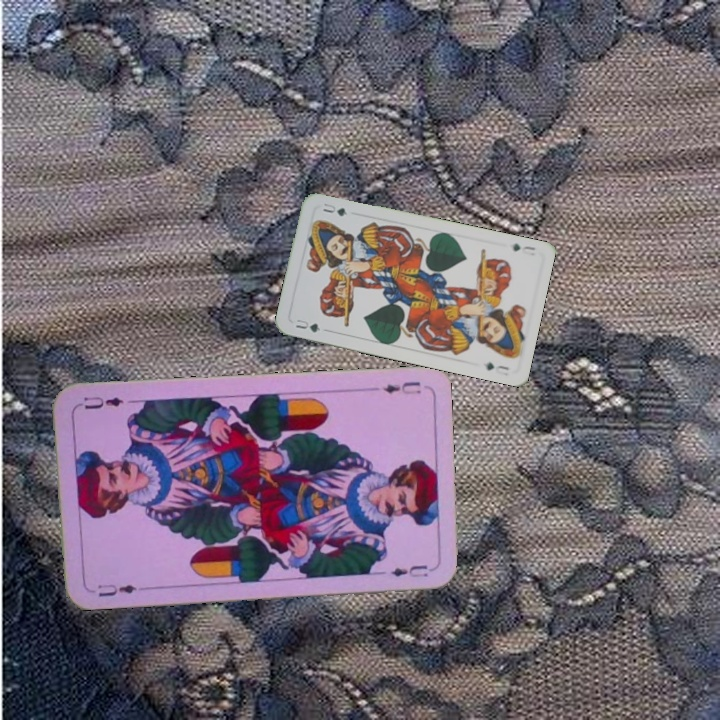EU: (93, 579, 139, 599), (379, 378, 423, 397)
GU: (292, 314, 323, 335), (508, 239, 538, 254)
